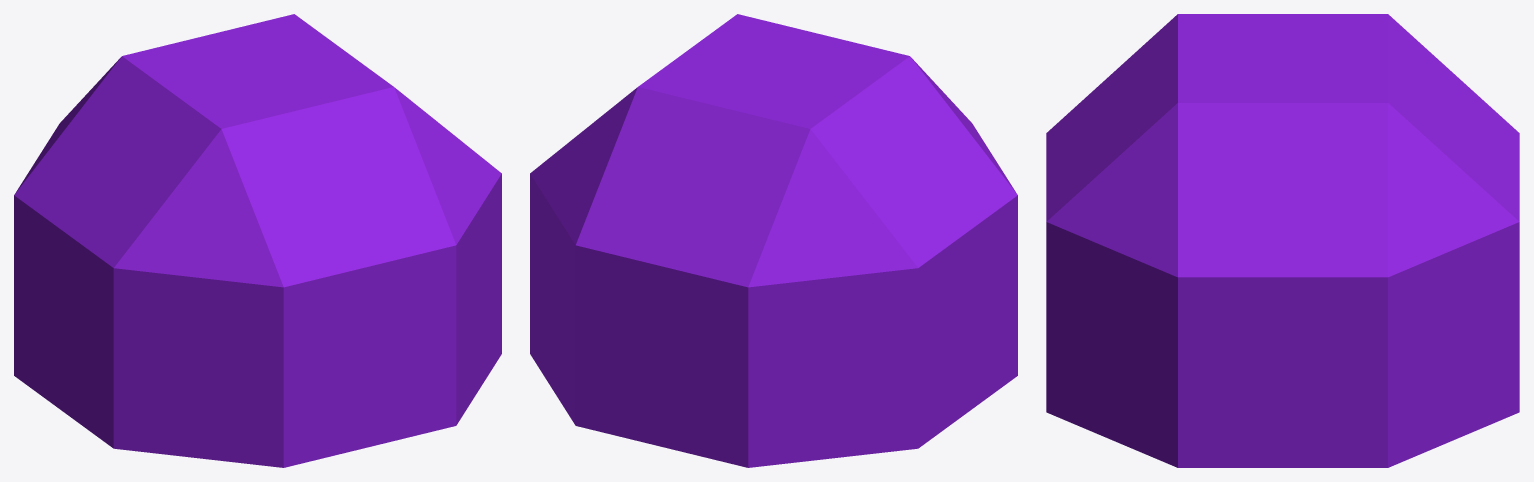
File: gfx_190.obj
3 renders of one model, left to right at view 1: azimuth 30°, elevation 25°; view 2: azimuth 150°, elevation 25°; view 3: azimuth 270°, elevation 25°, orthographic. The views are drawn at different scales.
Bounding box in the file's own units: 0.1406 × 0.1016 × 0.1406.
